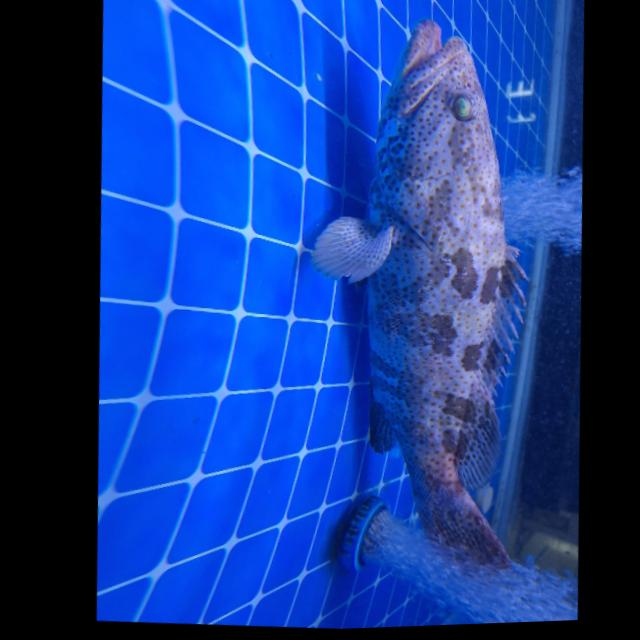Groupers: (272, 5, 564, 578)
